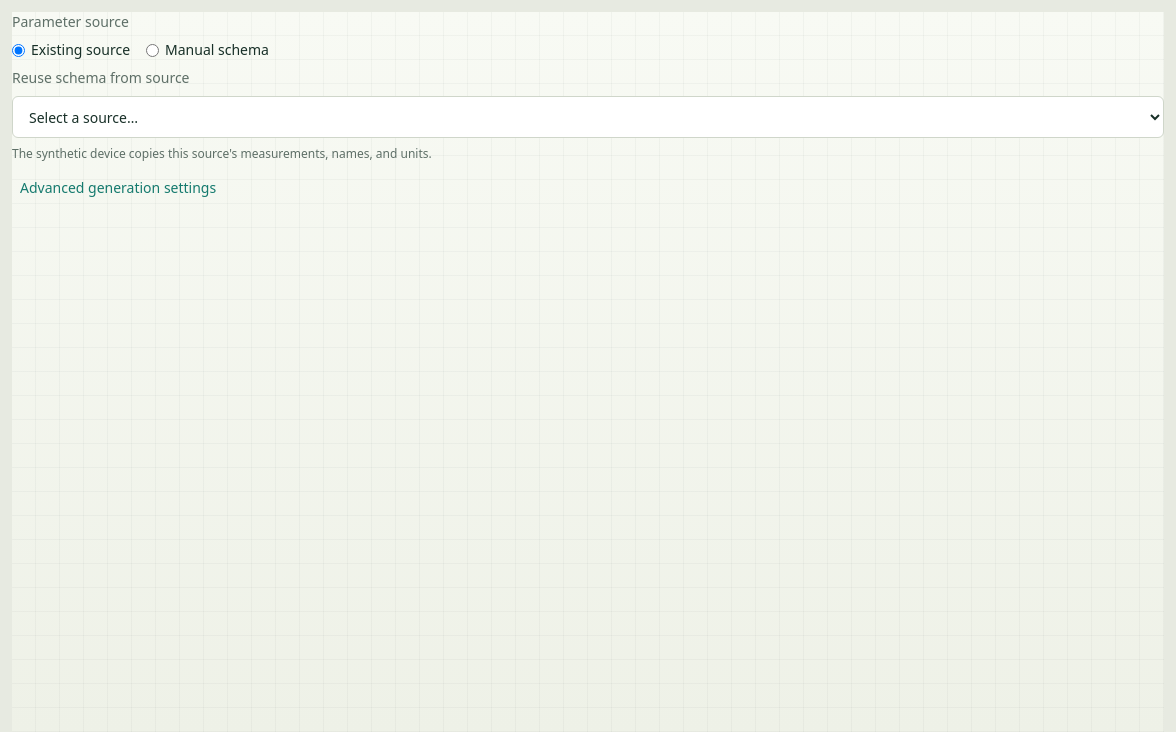
Test: SyntheticProfileStep — select-all / deselect-all (UI-487) › unchecking one row leaves Select all indeterminate, not checked
Select "Source 1" in the dropdown labelled "Reuse schema from source" at point(588, 117), box [12, 96, 1164, 138]
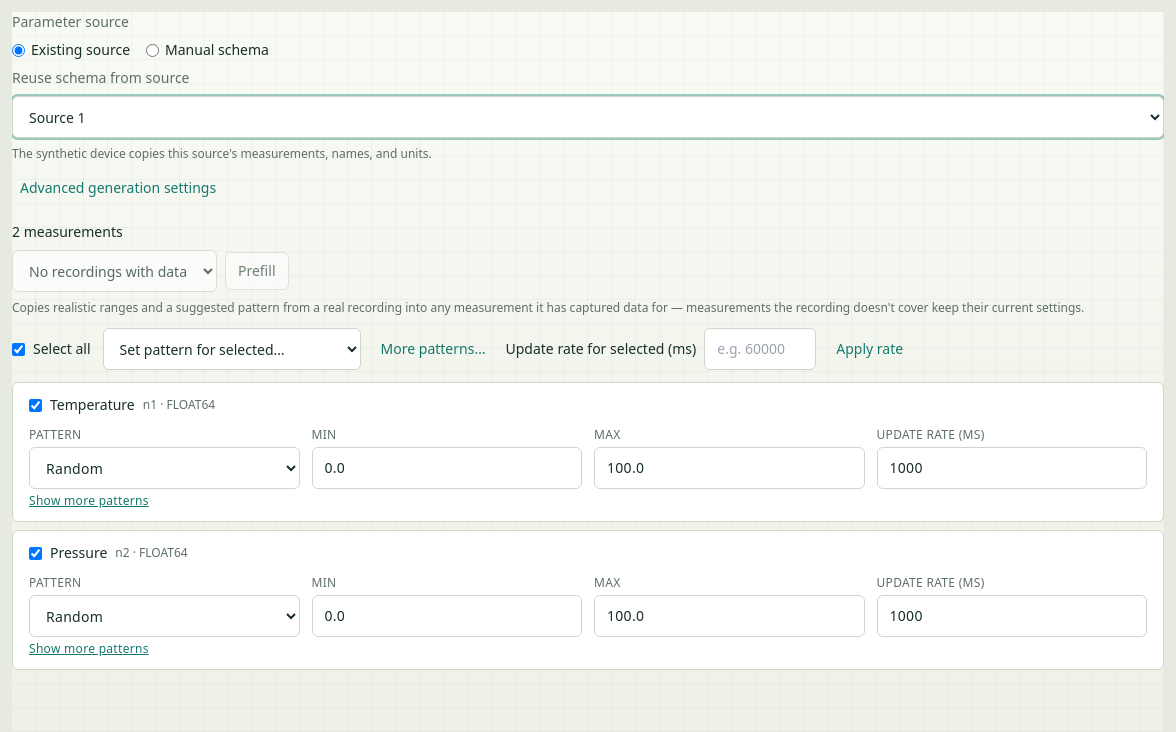
Click the checkbox labelled "Temperature n1 · FLOAT64" at point(36, 405), box [29, 398, 42, 412]
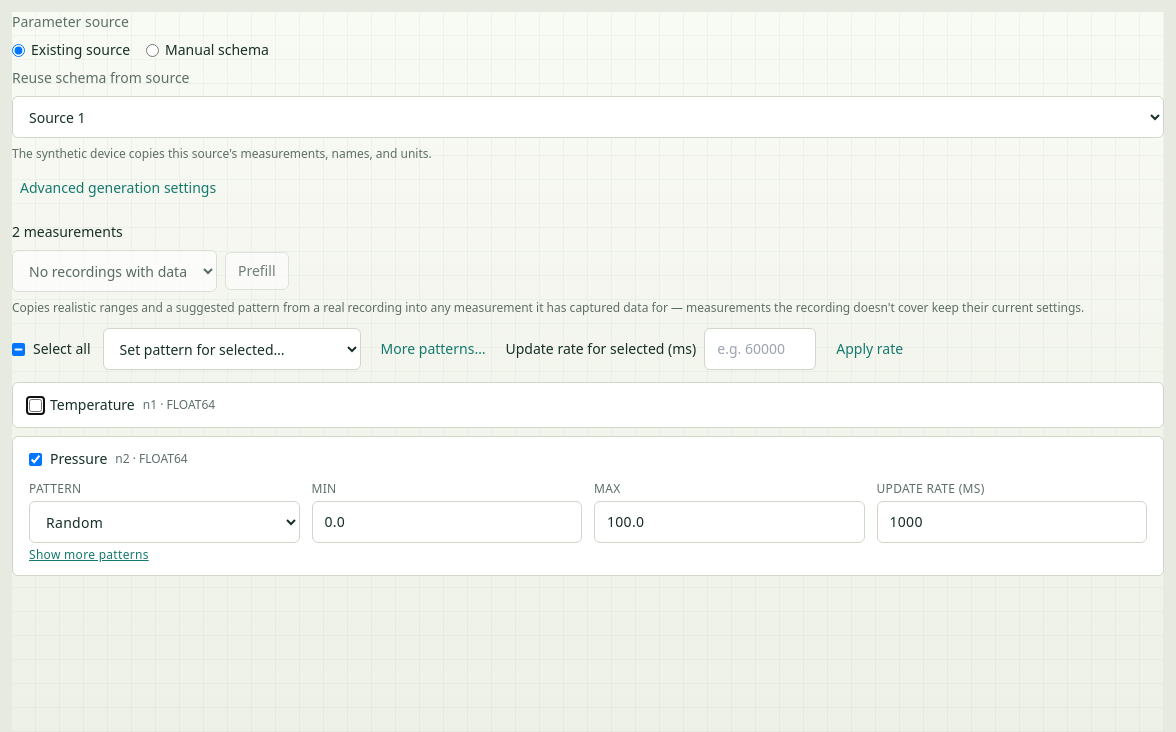
Check: the checkbox labelled "Select all" is not checked, box [12, 342, 25, 356]
